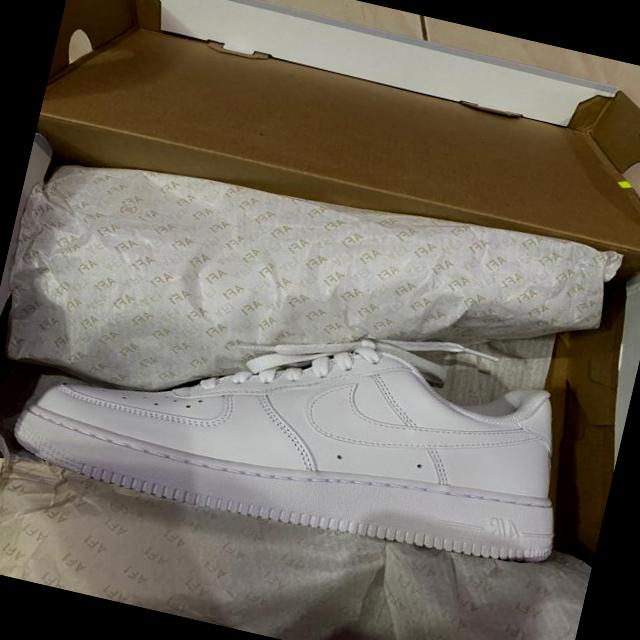nike_original_airforce: (0, 257, 594, 588)
